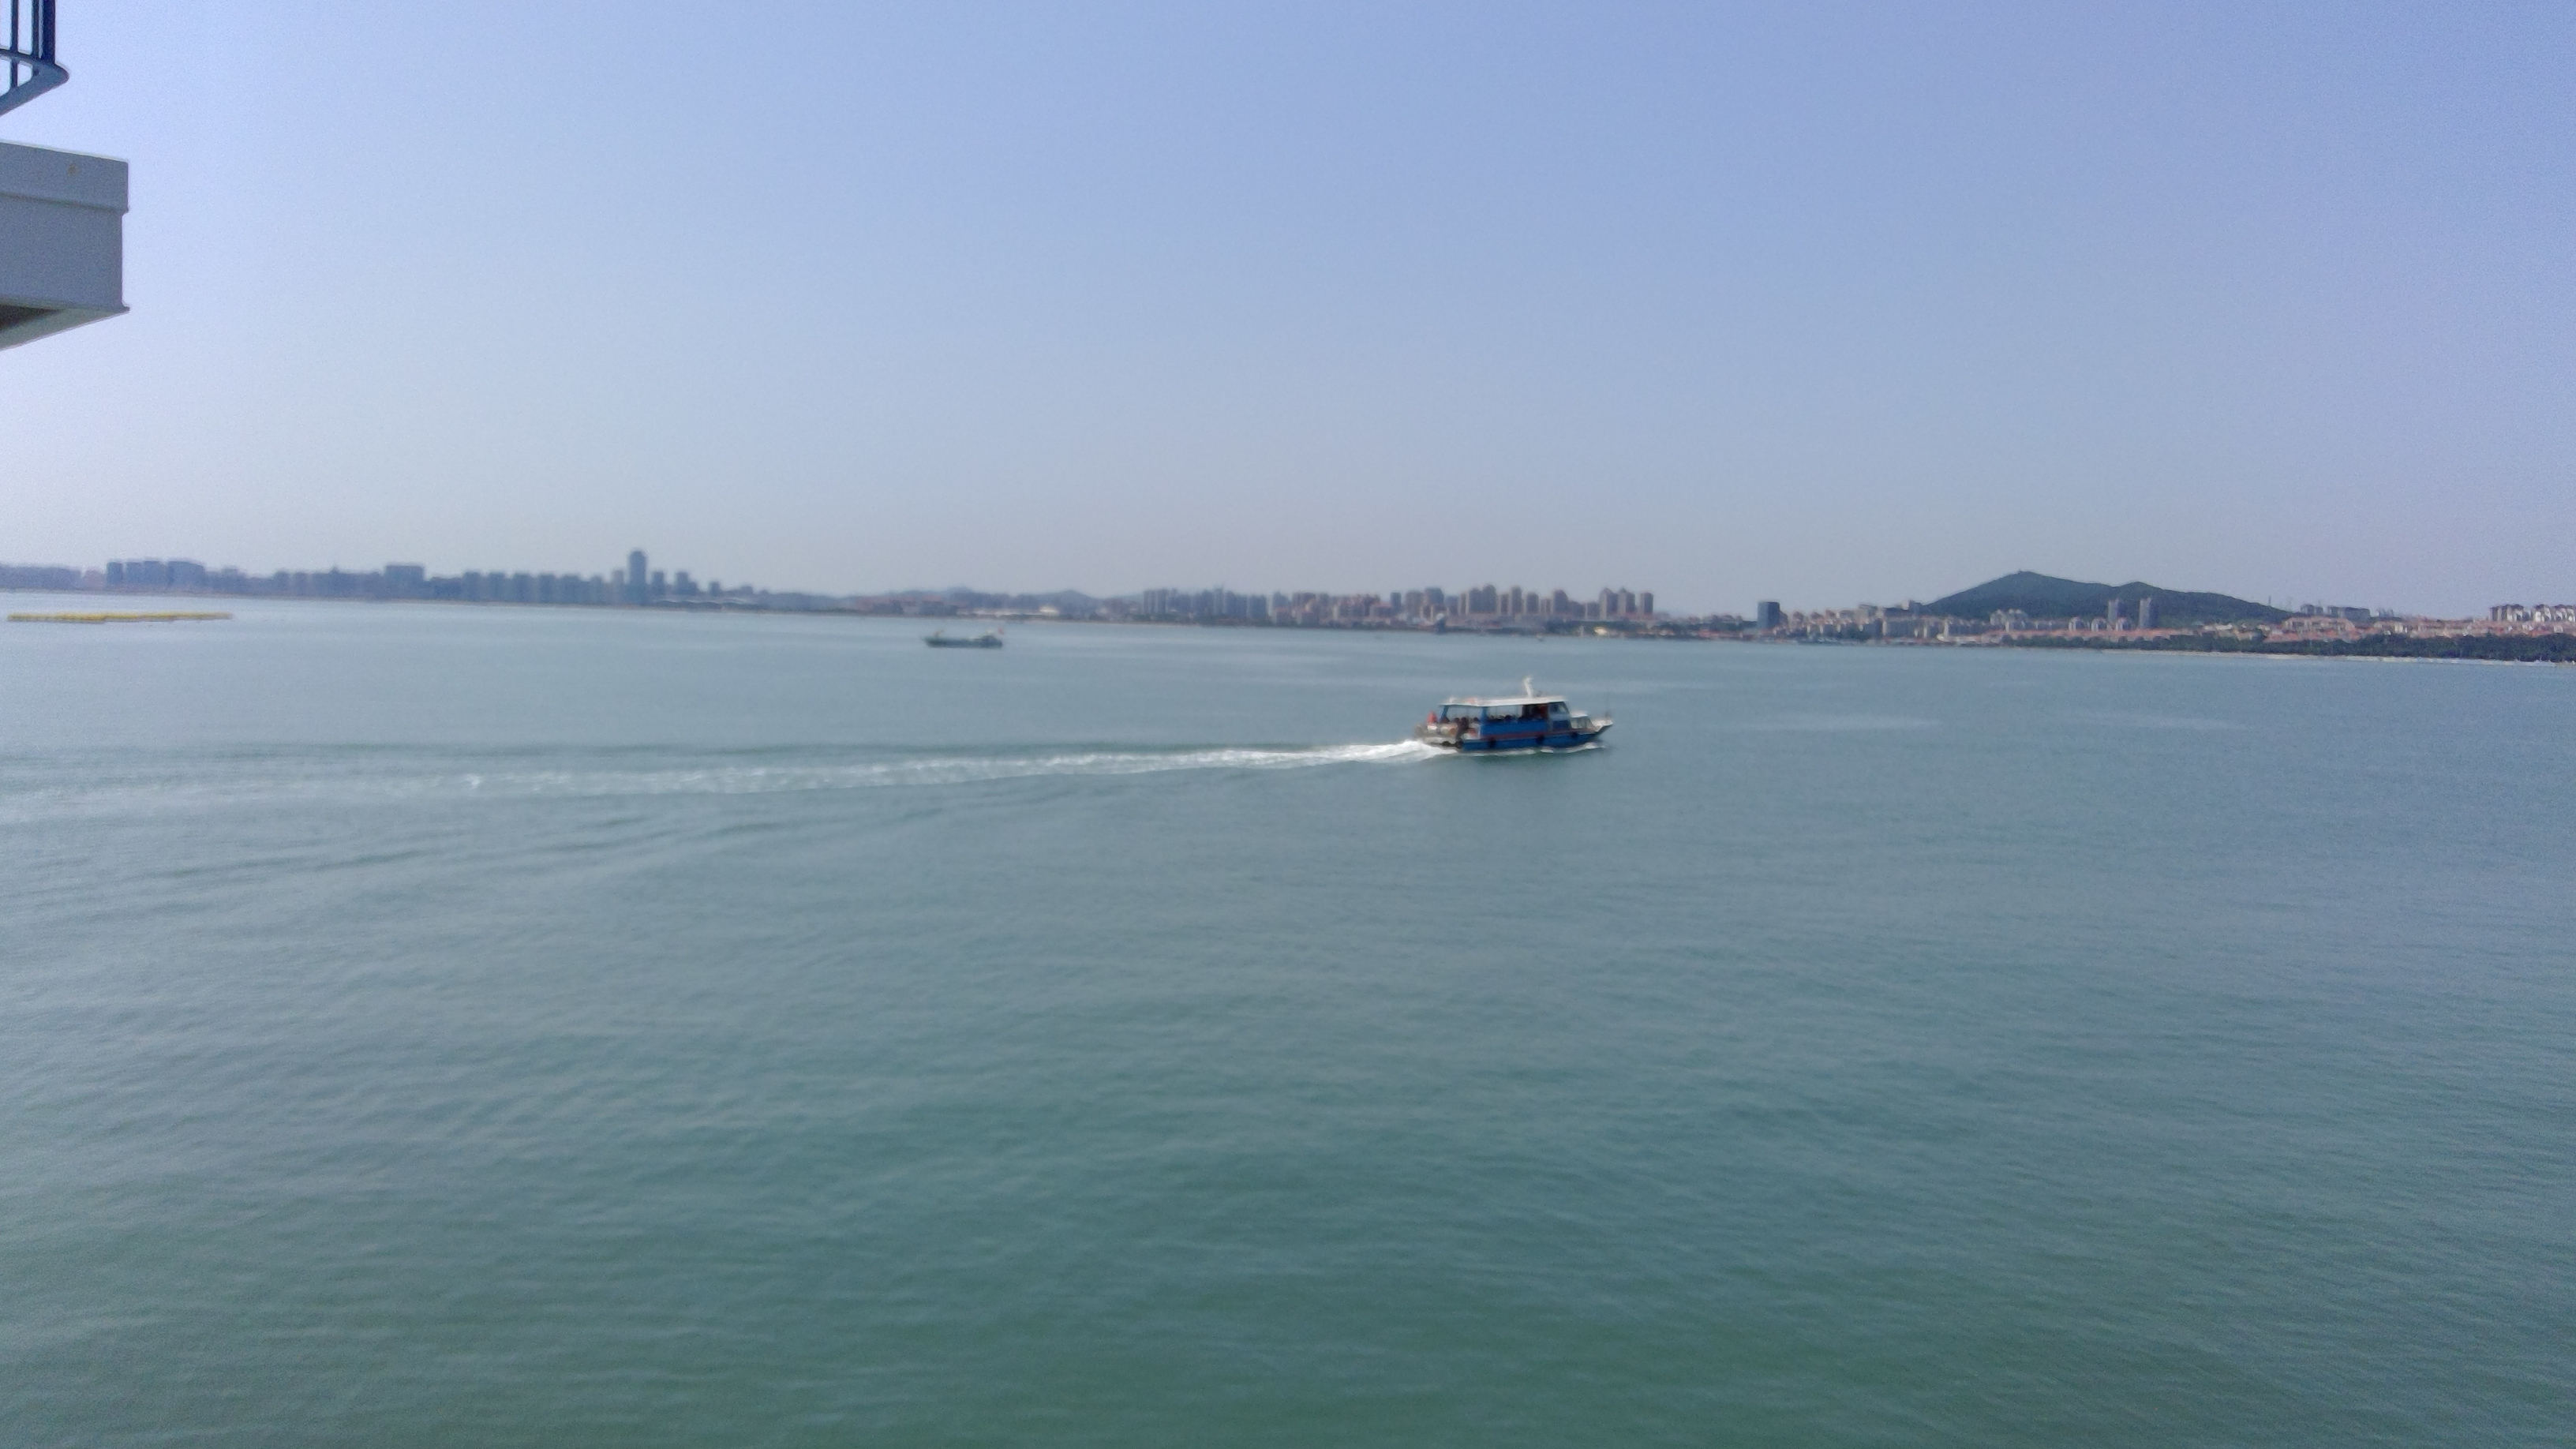ship: (1398, 649, 1626, 770)
